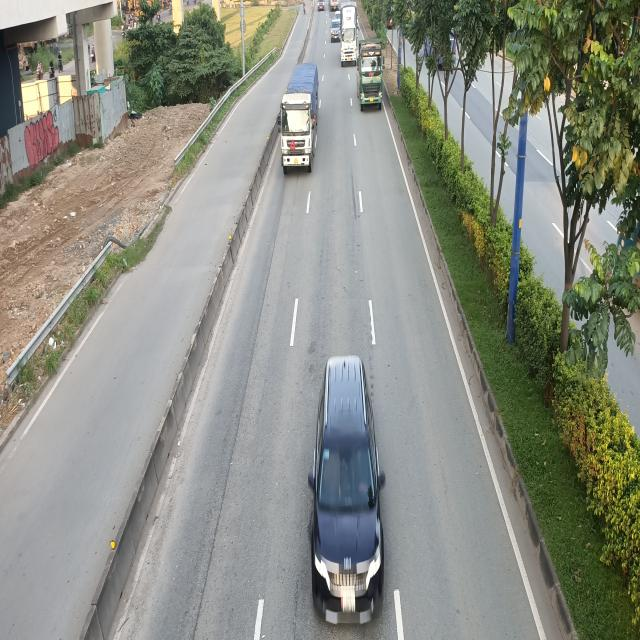car: (312, 355, 391, 626)
container: (277, 62, 320, 172), (355, 42, 384, 111)
truck: (340, 5, 358, 68)
